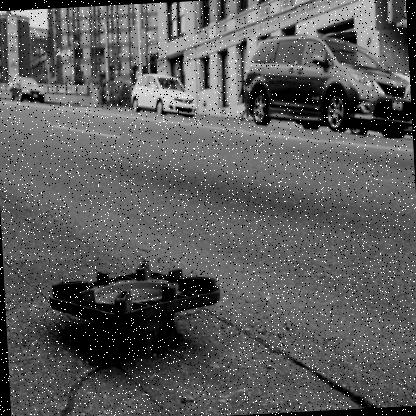Car: (239, 28, 412, 148), (342, 71, 412, 142), (129, 71, 197, 119), (7, 74, 44, 106)
